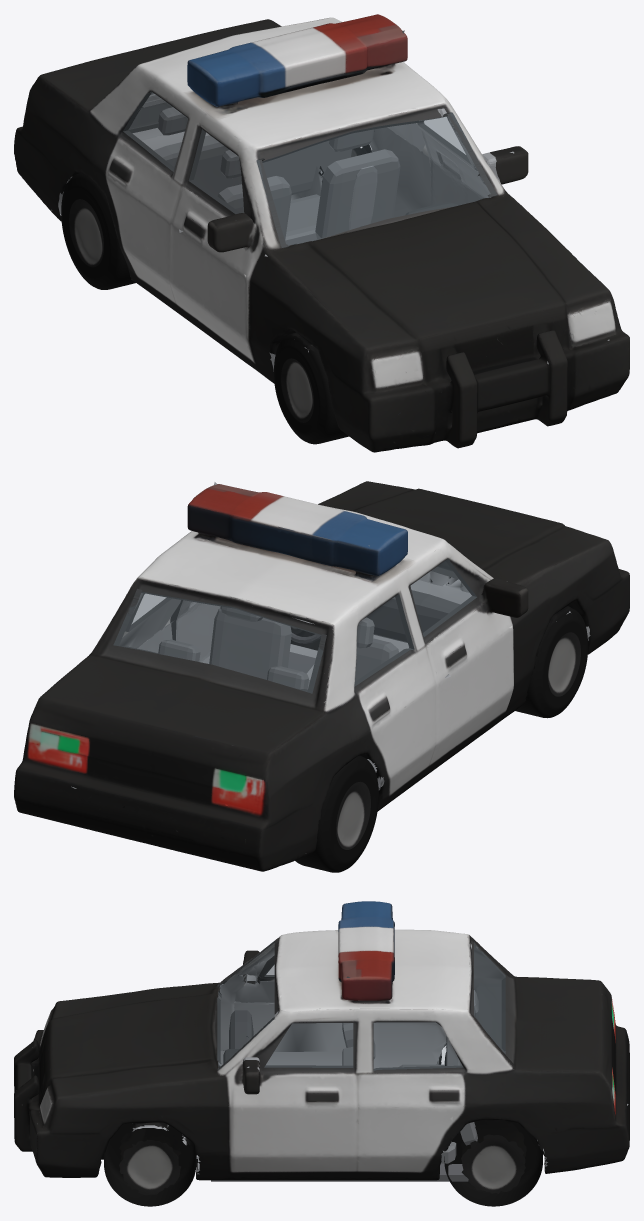
Rendered from ronnie_vehicle.fbx.
3 renders of one model, top to bottom at view 1: azimuth 30°, elevation 25°; view 2: azimuth 150°, elevation 25°; view 3: azimuth 270°, elevation 25°, orthographic. The views are drawn at different scales.
Visible parts, largest first — view 1: world, Glass__Body, Cabin__Seat__2C2E31, Wheel_PR, Wheel_NR, Driver_Seat__Seat__2C2E31, Cabin__Liner__55585D, Door_Driver__Card__55585D, Cabin__Trim__0F1011, Door_Driver__Shell, Driver_Seat__Accent__45484D, Cabin__Trim__0F1011.001; view 2: world, Glass__Body, Wheel_PR, Wheel_NR, Driver_Seat__Seat__2C2E31, Cabin__Liner__55585D, Cabin__Seat__2C2E31, Cabin__Trim__0F1011, Cabin__Dash__161719, Door_Driver__Card__55585D; view 3: world, Door_Driver__Shell, Glass__Body, Cabin__Liner__55585D, Wheel_PL, Wheel_NL, Door_Driver__Glass, Cabin__Trim__0F1011.001, Cabin__Trim__0F1011, Cabin__Seat__2C2E31, Cabin__Floor__1F2023, Cabin__Dash__161719.
Boxes of the visible parts, box(x1,y1,x2,y2) form: world: box(14, 14, 629, 452); Glass__Body: box(123, 91, 490, 245); Cabin__Seat__2C2E31: box(154, 107, 351, 245); Wheel_PR: box(61, 173, 135, 289); Wheel_NR: box(274, 333, 348, 444); Driver_Seat__Seat__2C2E31: box(315, 129, 400, 239); Cabin__Liner__55585D: box(51, 30, 609, 371); Door_Driver__Card__55585D: box(417, 108, 514, 205); Cabin__Trim__0F1011: box(123, 91, 497, 247); Door_Driver__Shell: box(423, 102, 528, 184); Driver_Seat__Accent__45484D: box(349, 165, 377, 230); Cabin__Trim__0F1011.001: box(128, 102, 458, 215); world: box(14, 481, 629, 871); Glass__Body: box(114, 549, 476, 693); Wheel_PR: box(295, 755, 378, 872); Wheel_NR: box(515, 609, 587, 718); Driver_Seat__Seat__2C2E31: box(209, 606, 310, 689); Cabin__Liner__55585D: box(71, 482, 590, 790); Cabin__Seat__2C2E31: box(158, 617, 398, 784); Cabin__Trim__0F1011: box(113, 558, 476, 693); Cabin__Dash__161719: box(366, 590, 460, 642); Door_Driver__Card__55585D: box(176, 600, 220, 663); world: box(14, 901, 629, 1180); Door_Driver__Shell: box(230, 1005, 358, 1170); Glass__Body: box(217, 941, 505, 1070); Cabin__Liner__55585D: box(37, 943, 628, 1174); Wheel_PL: box(444, 1119, 542, 1206); Wheel_NL: box(104, 1123, 196, 1206); Door_Driver__Glass: box(265, 1023, 352, 1067); Cabin__Trim__0F1011.001: box(223, 983, 505, 1063); Cabin__Trim__0F1011: box(217, 941, 505, 1070); Cabin__Seat__2C2E31: box(342, 990, 478, 1163); Cabin__Floor__1F2023: box(211, 1163, 468, 1181); Cabin__Dash__161719: box(229, 1010, 253, 1048).
Bounding box in the file's own units: 48 × 39.03 × 100.
12 materials, 1 textured.
